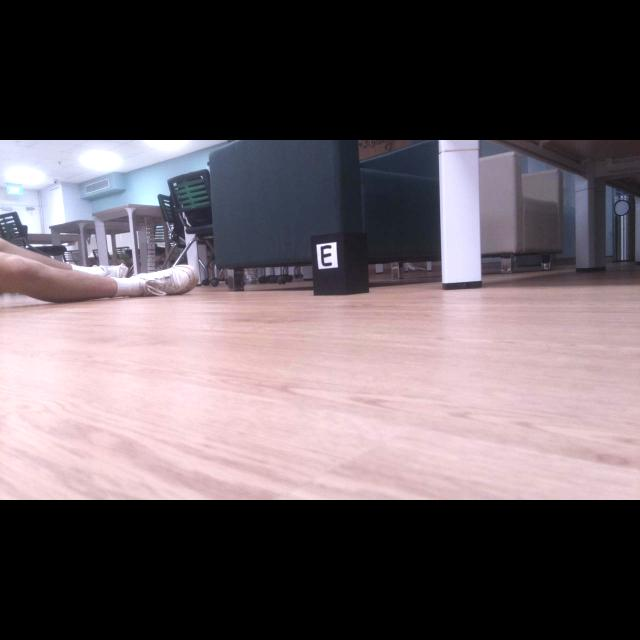E: (321, 245, 332, 267)
